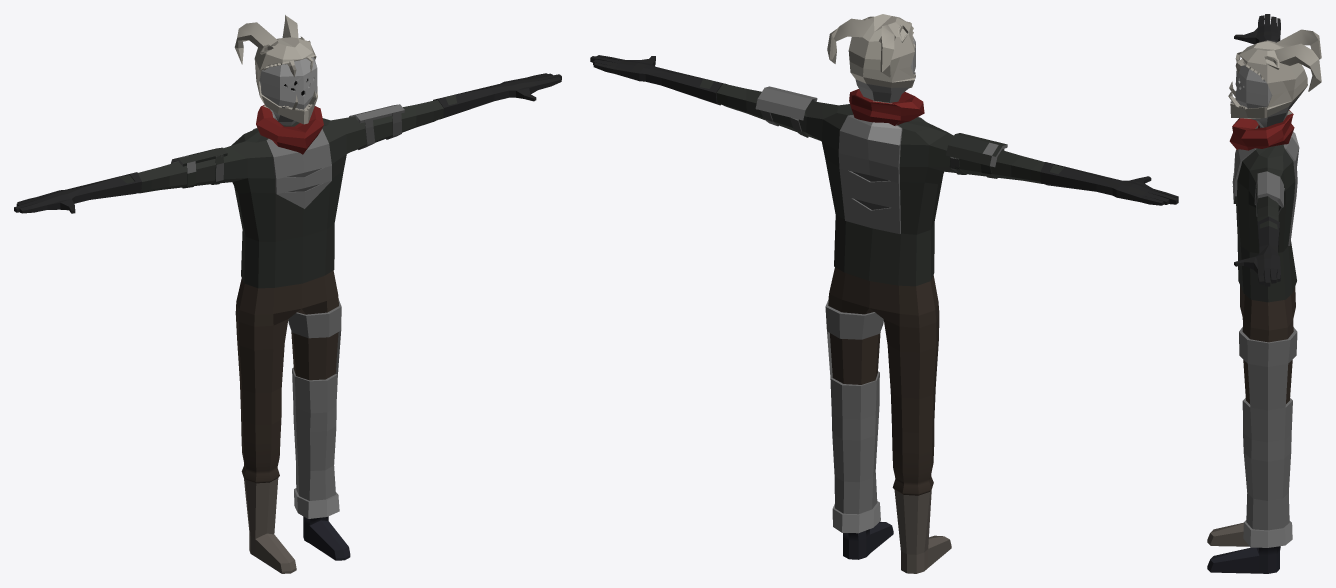
The model's file is BobyMurderModel.fbx.
3 renders of one model, left to right at view 1: azimuth 30°, elevation 25°; view 2: azimuth 150°, elevation 25°; view 3: azimuth 270°, elevation 25°, orthographic. The views are drawn at different scales.
Visible parts, largest first — view 1: BaseModel:Mesh1; view 2: BaseModel:Mesh1; view 3: BaseModel:Mesh1.
Part boxes in pixels (<box>): BaseModel:Mesh1: <box>14,15,561,573</box>; BaseModel:Mesh1: <box>590,14,1178,573</box>; BaseModel:Mesh1: <box>1207,14,1321,573</box>.
Bounding box in the file's own units: 193 × 174 × 34.87.
